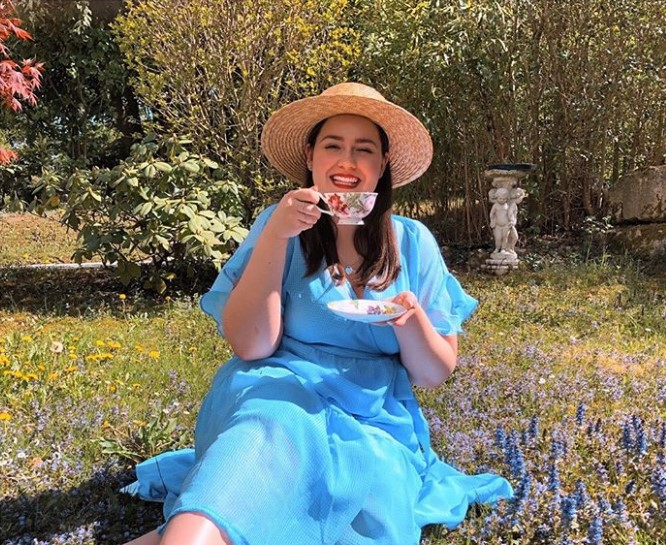face_no_mask: (302, 100, 390, 214)
